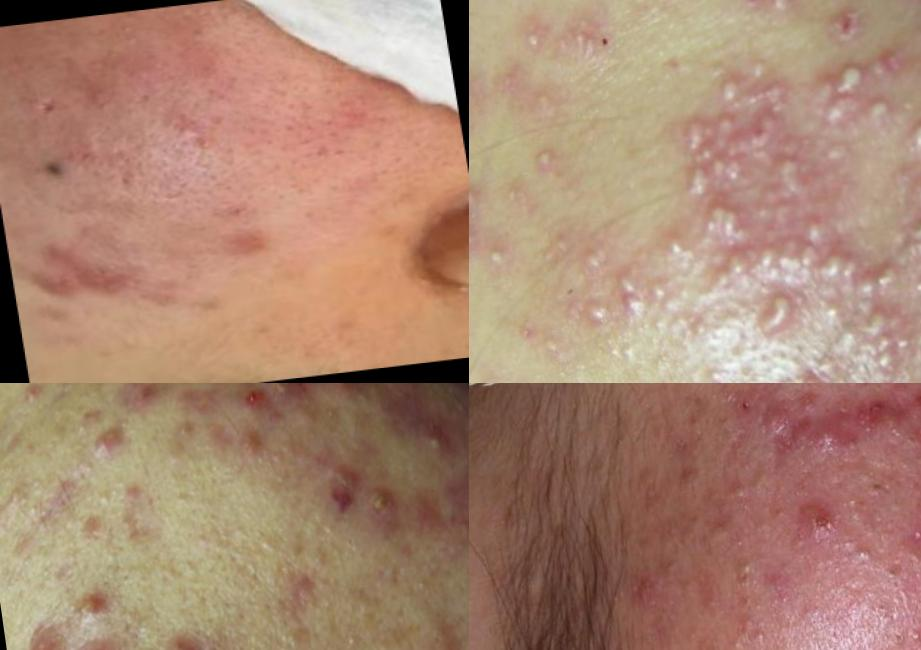acne_scars: (850, 384, 921, 451)
cystic: (368, 384, 424, 397)
papular: (314, 455, 376, 524), (228, 428, 275, 472), (119, 384, 167, 416), (15, 384, 49, 413)
purulent: (677, 97, 798, 243), (572, 255, 696, 327), (801, 55, 901, 142), (832, 302, 921, 384), (815, 247, 898, 308), (719, 239, 804, 289), (726, 359, 864, 384), (749, 280, 818, 328), (890, 162, 921, 260), (700, 66, 756, 119), (809, 414, 854, 466), (413, 415, 467, 458), (764, 1, 823, 36), (902, 109, 921, 158), (760, 384, 803, 394)
sebo-crystan-conglo: (366, 475, 414, 515), (22, 618, 81, 650), (91, 420, 131, 463), (81, 586, 118, 623), (147, 629, 211, 650), (260, 384, 304, 402)
whitehead: (508, 1, 641, 73), (470, 186, 521, 285), (721, 467, 783, 513), (470, 83, 497, 180), (175, 1, 241, 32), (729, 546, 770, 593), (96, 10, 150, 45), (403, 567, 458, 601), (70, 83, 111, 124), (169, 106, 200, 150), (842, 540, 882, 574), (82, 43, 129, 69), (90, 480, 129, 506), (172, 488, 205, 516), (252, 524, 280, 555), (316, 585, 342, 617), (337, 616, 360, 650)
